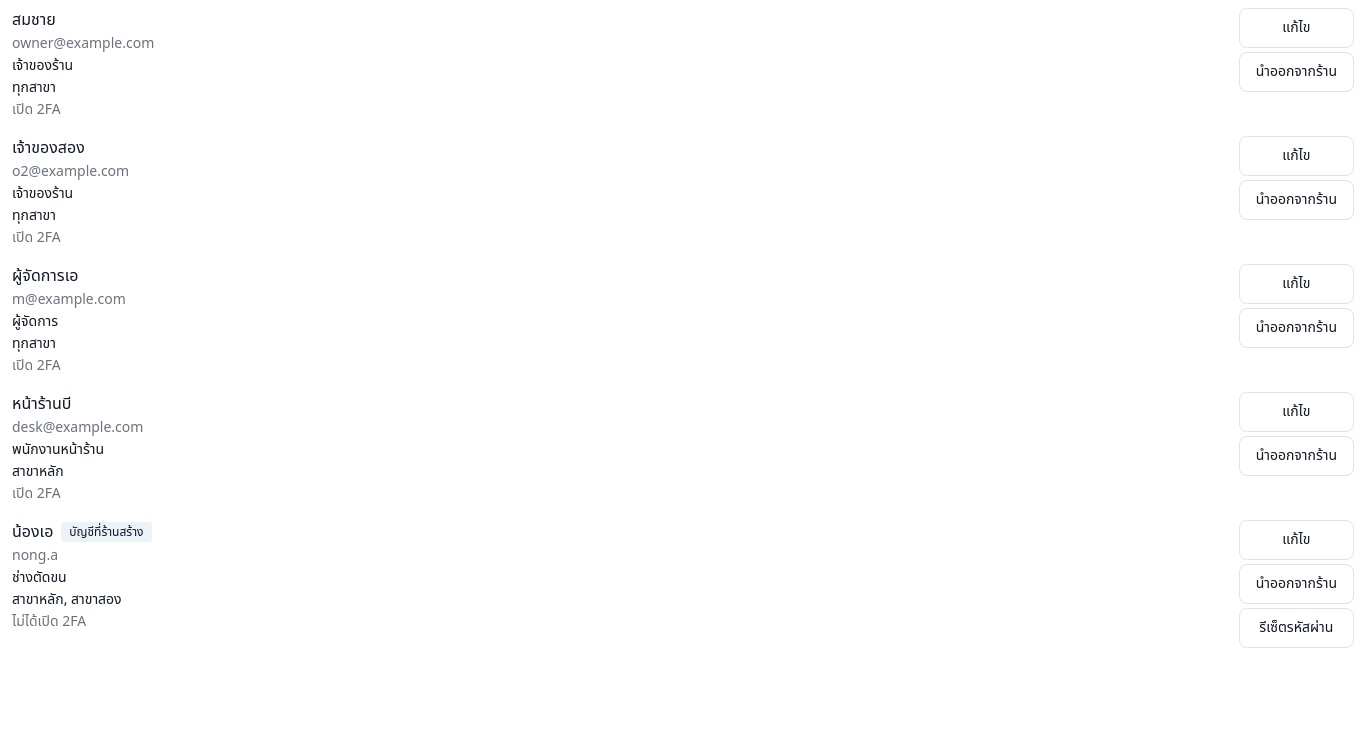
it: edit (#contract-staff-update) › LAST_OWNER → its message, dialog stays open
The image size is (1366, 750).
Expected: the text "น้องเอ" is shown, top-left (12, 520), bottom-right (53, 544)
Step 1. Click the button "แก้ไข" in the row of "สมชาย" → (1296, 28), box top-left (1239, 8), bottom-right (1354, 48)
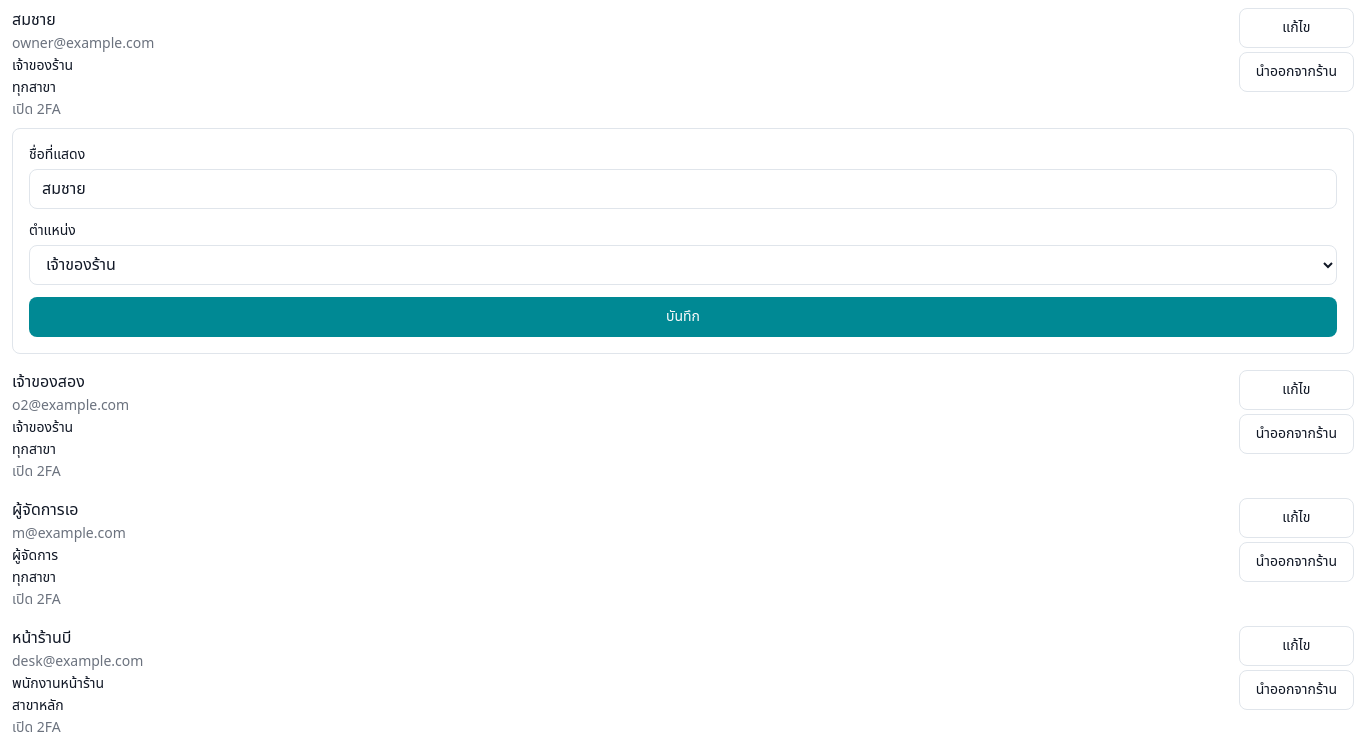
Step 2. Select "ผู้จัดการ" in the dropdown labelled "ตำแหน่ง" → (683, 265), box top-left (29, 245), bottom-right (1337, 285)
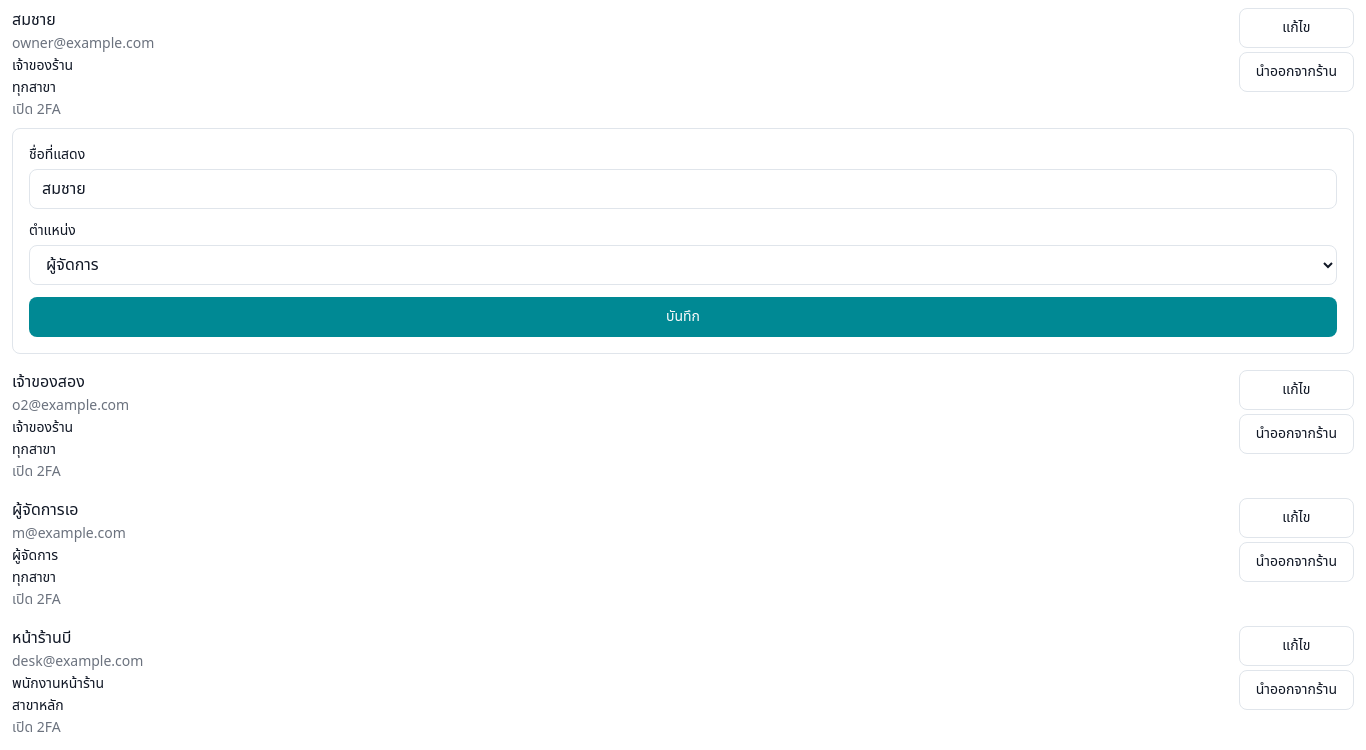
Step 3. Click the button "บันทึก" → (683, 317), box top-left (29, 297), bottom-right (1337, 337)
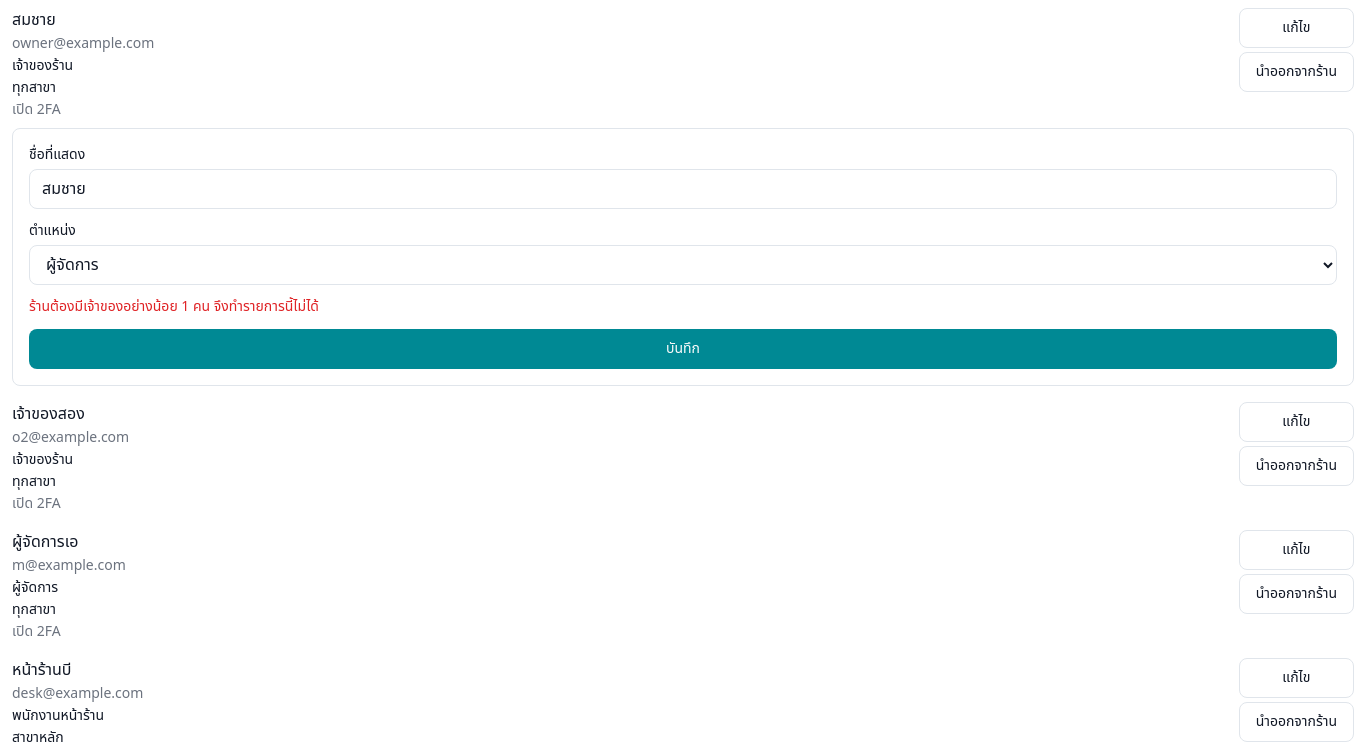
Result: the text "ร้านต้องมีเจ้าของอย่างน้อย 1 คน จึงทำรายการนี้ไม่ได้" is shown at top-left (29, 296), bottom-right (319, 317)
